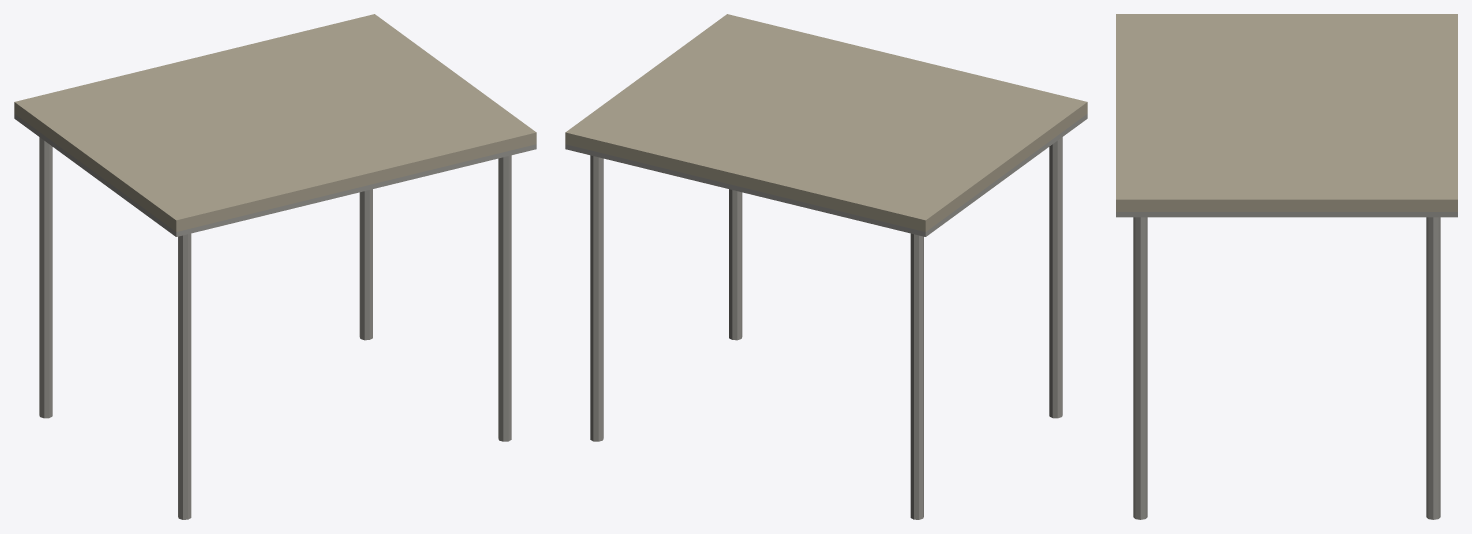
The model's file is kitchen-table.glb.
3 renders of one model, left to right at view 1: azimuth 30°, elevation 25°; view 2: azimuth 150°, elevation 25°; view 3: azimuth 270°, elevation 25°, orthographic. The views are drawn at different scales.
Visible parts, largest first — view 1: plastic-light, brushed; view 2: plastic-light, brushed; view 3: plastic-light, brushed.
Part boxes in pixels (x1,y1,x2,y2): plastic-light: (14, 14, 536, 231); brushed: (14, 114, 536, 519); plastic-light: (565, 14, 1087, 231); brushed: (565, 114, 1087, 519); plastic-light: (1116, 14, 1457, 211); brushed: (1116, 212, 1457, 519).
Bounding box in the file's own units: 0.9 × 0.74 × 0.7.
